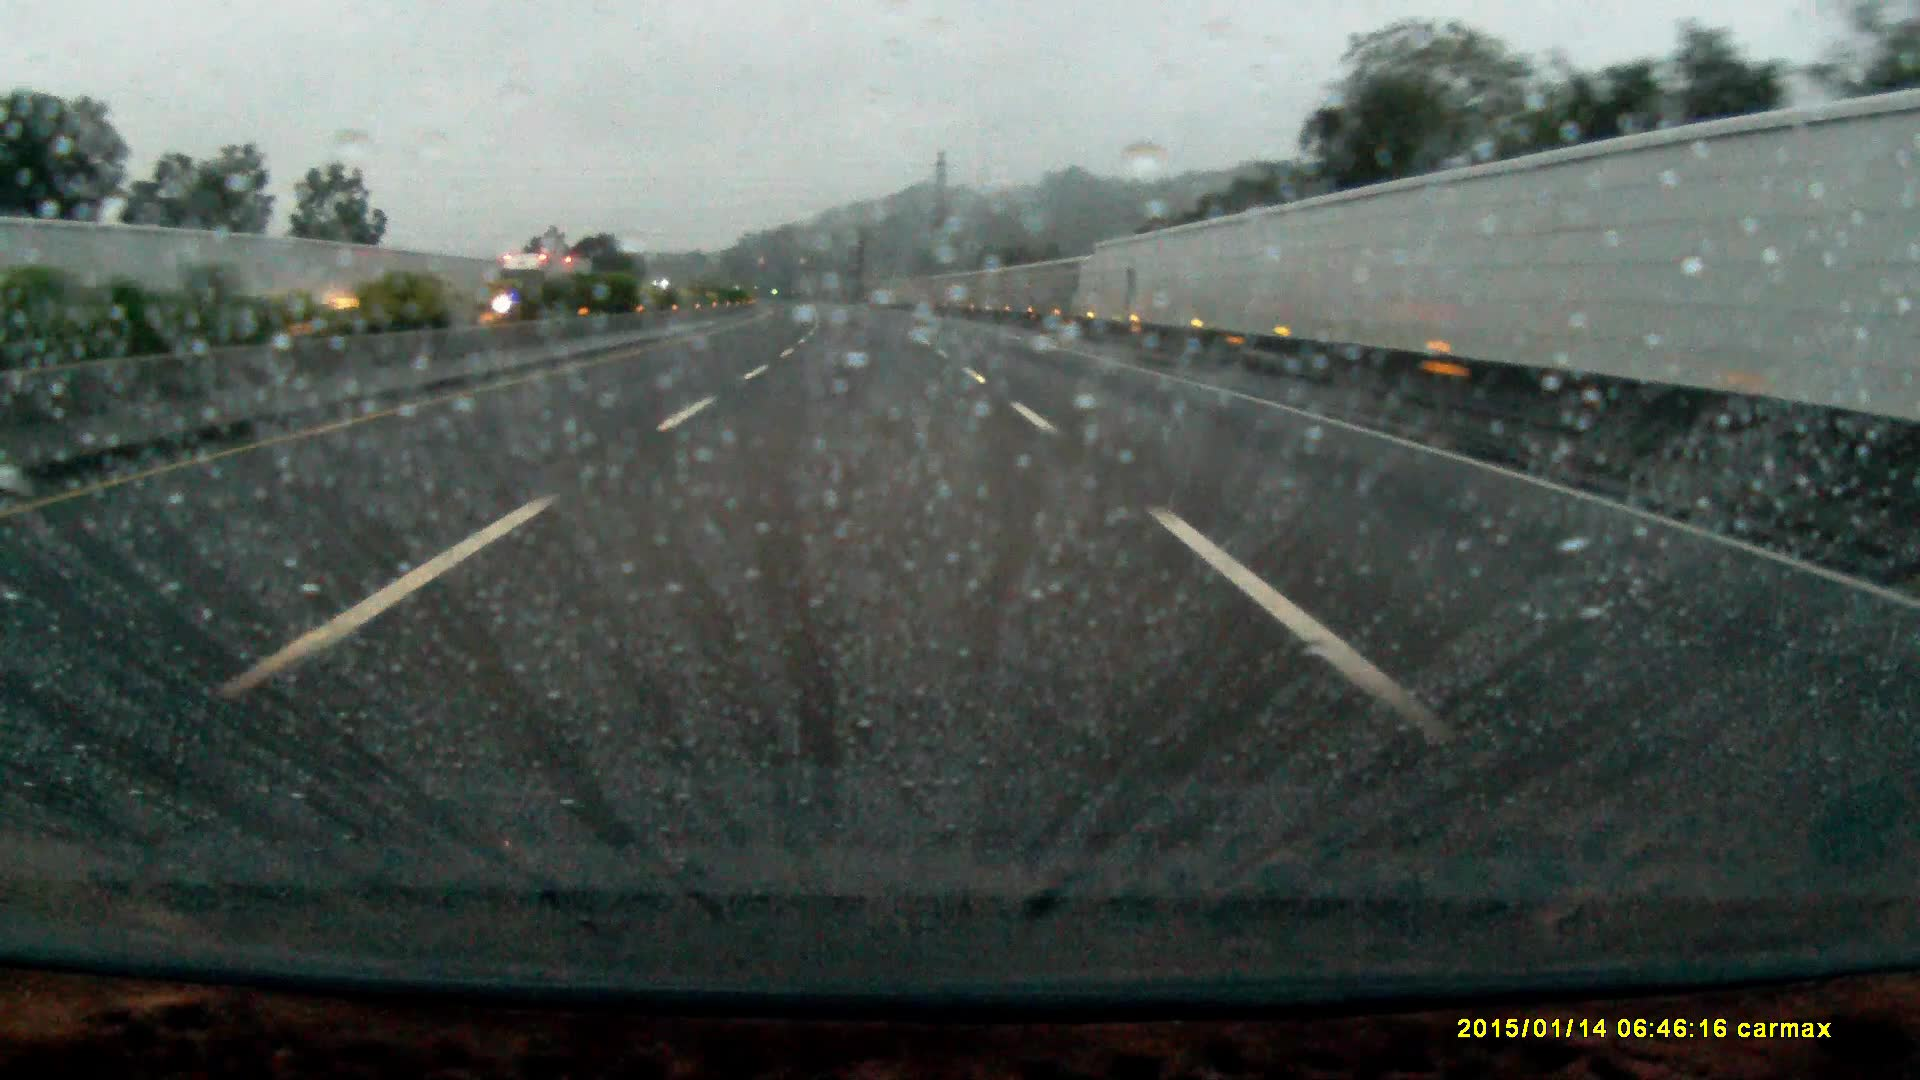vehicle: (492, 252, 591, 313)
